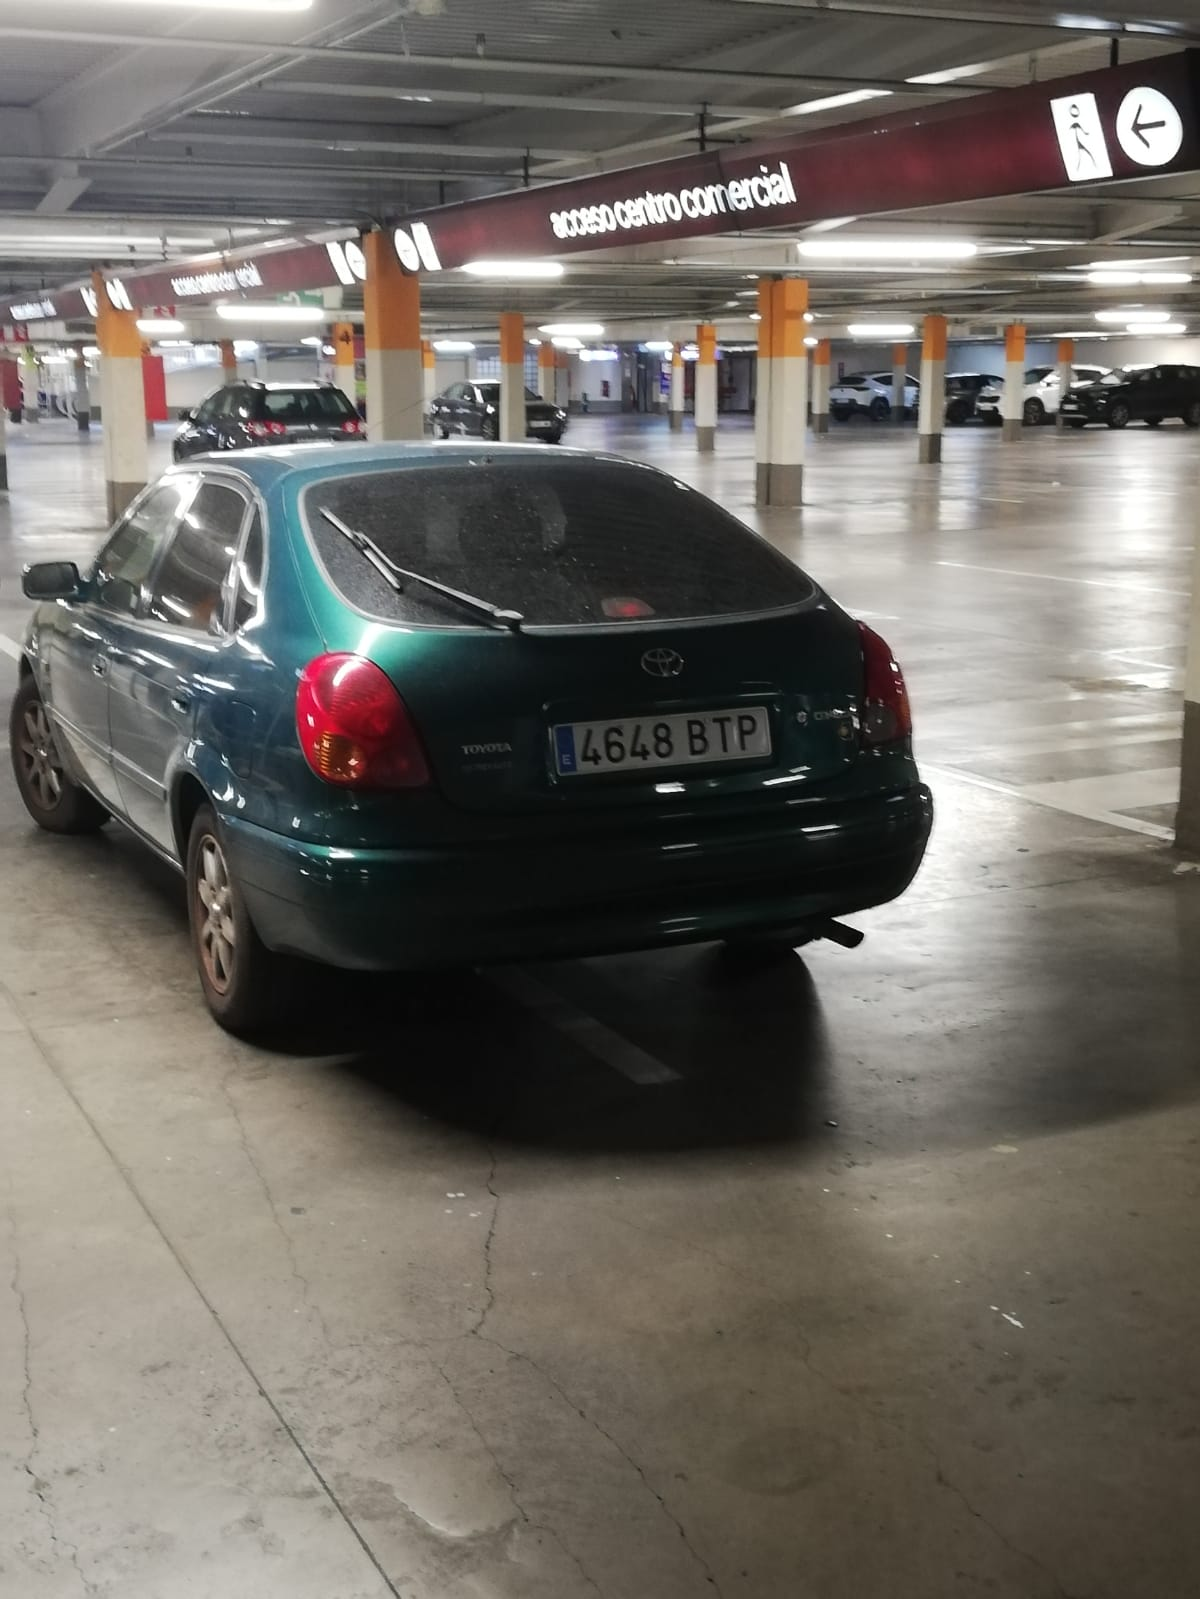Car: (8, 441, 936, 1025)
Plate: (548, 729, 772, 777)
